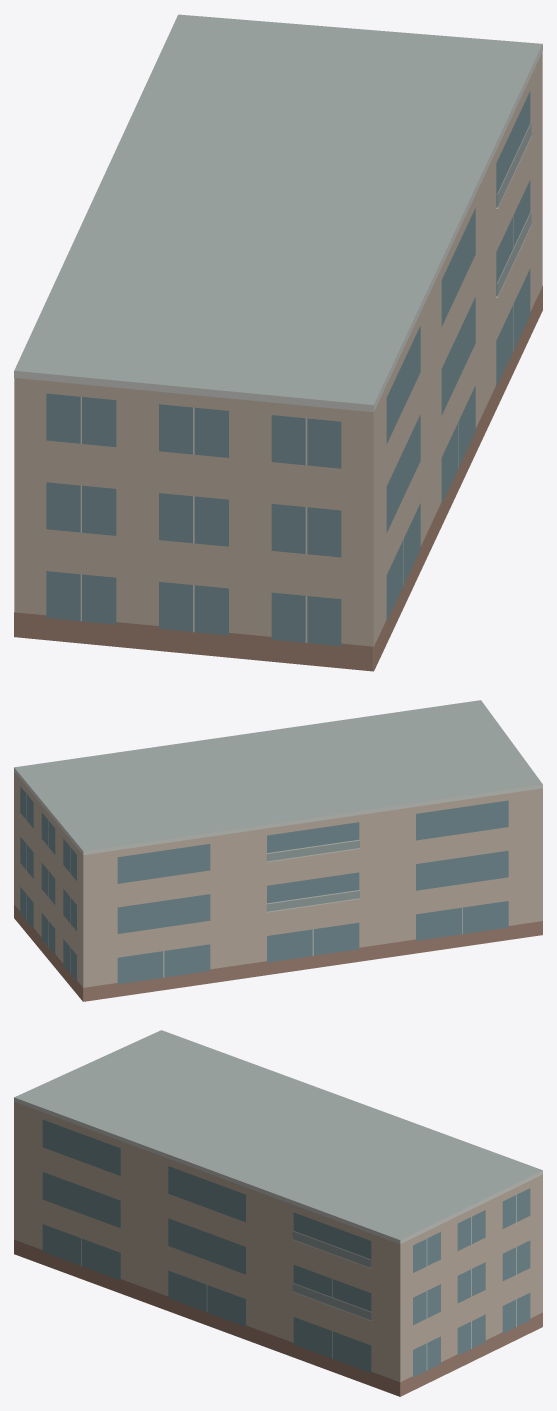
Rendered from survey-upis-32780296.glb.
3 renders of one model, top to bottom at view 1: azimuth 30°, elevation 25°; view 2: azimuth 150°, elevation 25°; view 3: azimuth 270°, elevation 25°, orthographic. The views are drawn at different scales.
Parts seen in each view (by area): view 1: survey-upis-32780296.tmp; view 2: survey-upis-32780296.tmp; view 3: survey-upis-32780296.tmp.
Boxes of the visible parts, x1,y1,x2,y2 form: survey-upis-32780296.tmp: [14, 14, 542, 671]; survey-upis-32780296.tmp: [14, 700, 542, 1001]; survey-upis-32780296.tmp: [14, 1030, 542, 1396].
Bounding box in the file's own units: 26.31 × 9.15 × 27.99.
